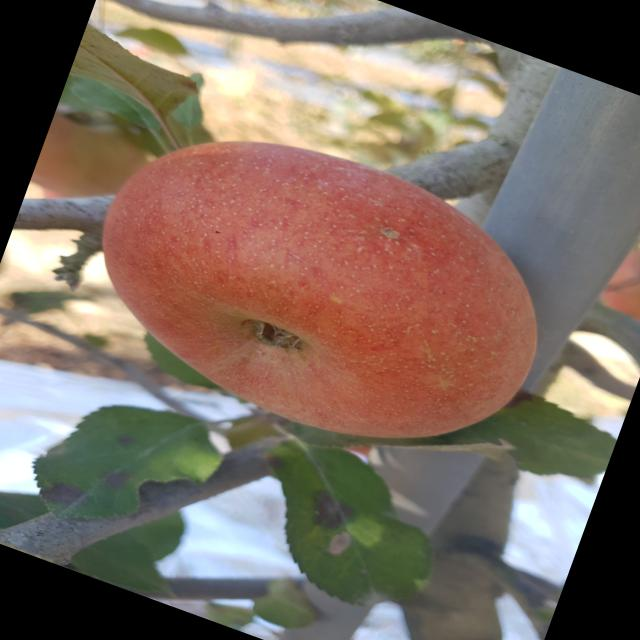fresh: (51, 78, 607, 508)
